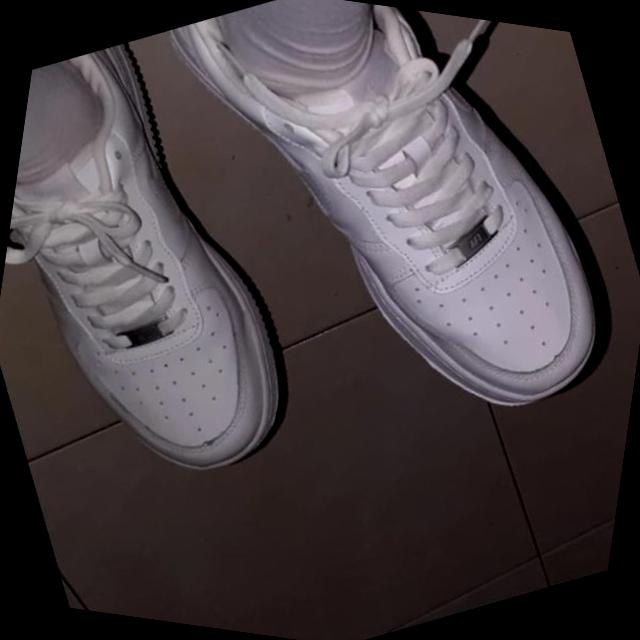nike_fake_airforce: (110, 0, 640, 517), (0, 4, 365, 553)
